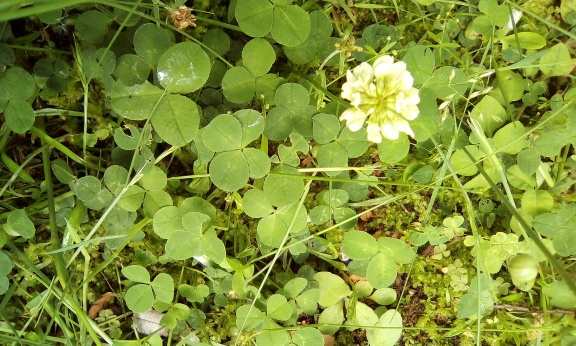4leaf: (201, 108, 272, 193)
